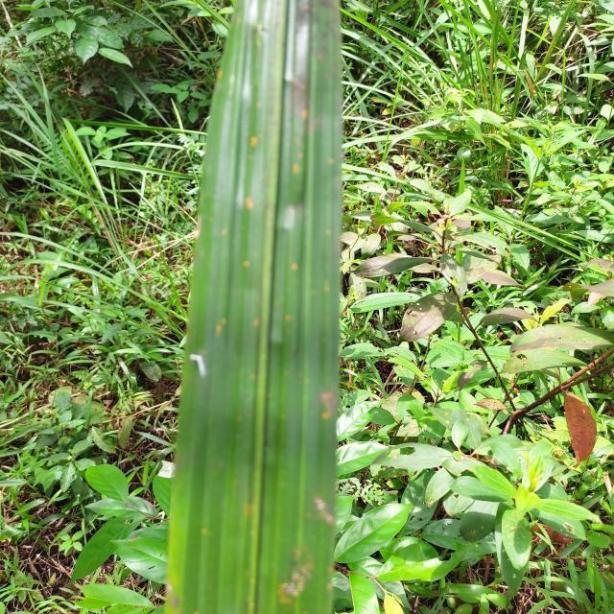Kalium: (163, 1, 342, 614)
